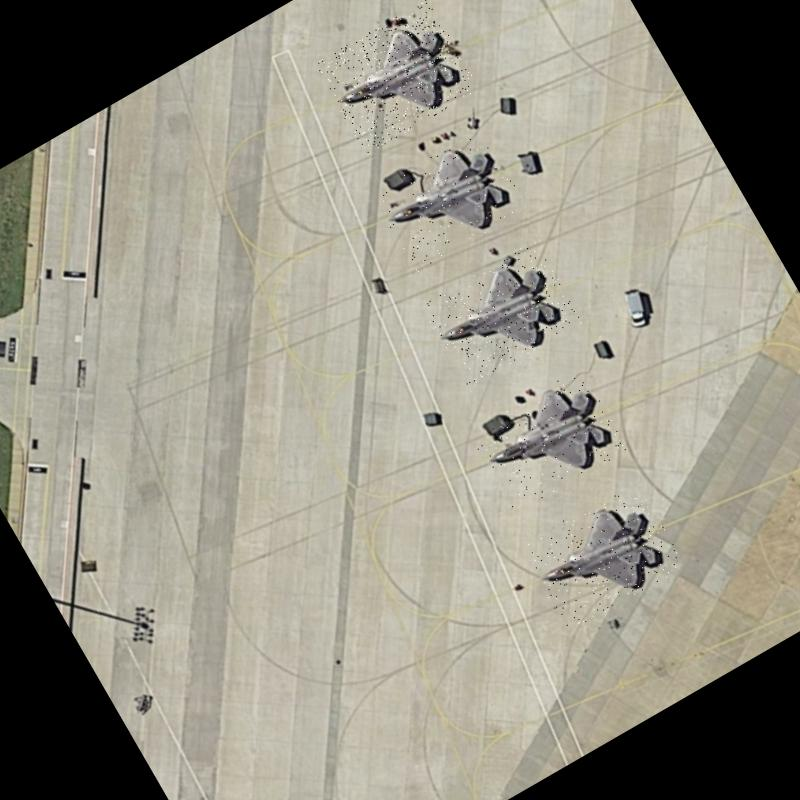A15: (519, 478, 686, 634), (313, 0, 480, 155), (467, 364, 629, 514), (420, 240, 583, 388), (368, 127, 528, 274)
